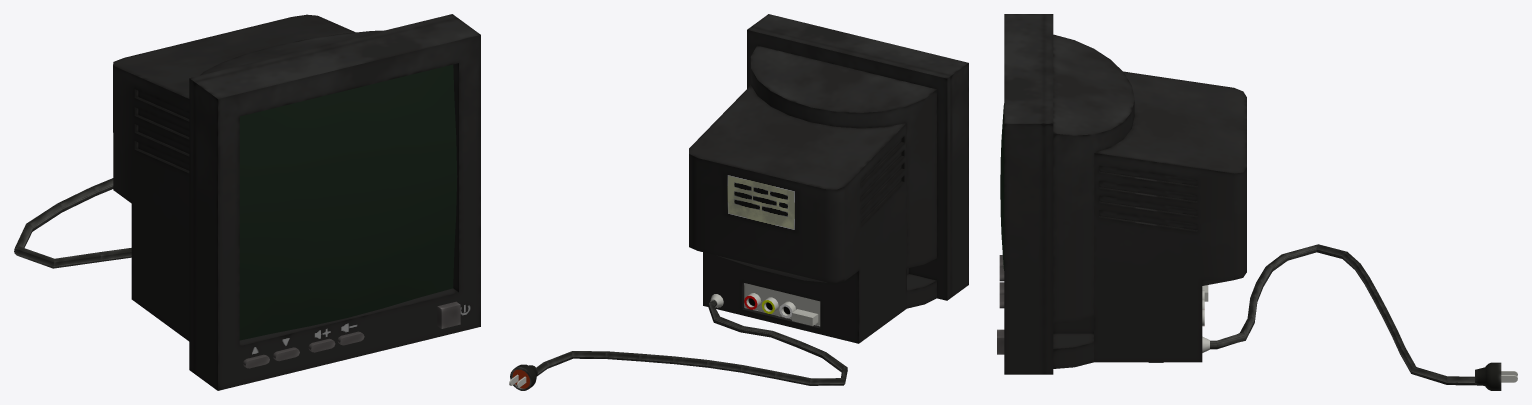
Rendered from CRTTV.gltf.
3 views of the same model, side by side, from view 1: azimuth 30°, elevation 25°; view 2: azimuth 150°, elevation 25°; view 3: azimuth 270°, elevation 25° (orthographic). The views are drawn at different scales.
Parts seen in each view (by area): view 1: CRTTV; view 2: CRTTV; view 3: CRTTV.
Boxes of the visible parts, <box> form: CRTTV: <box>14,14,480,390</box>; CRTTV: <box>509,14,968,390</box>; CRTTV: <box>997,14,1517,390</box>.
Bounding box in the file's own units: 0.6481 × 0.5471 × 1.02.
Materials: 2 (1 with a texture image).
